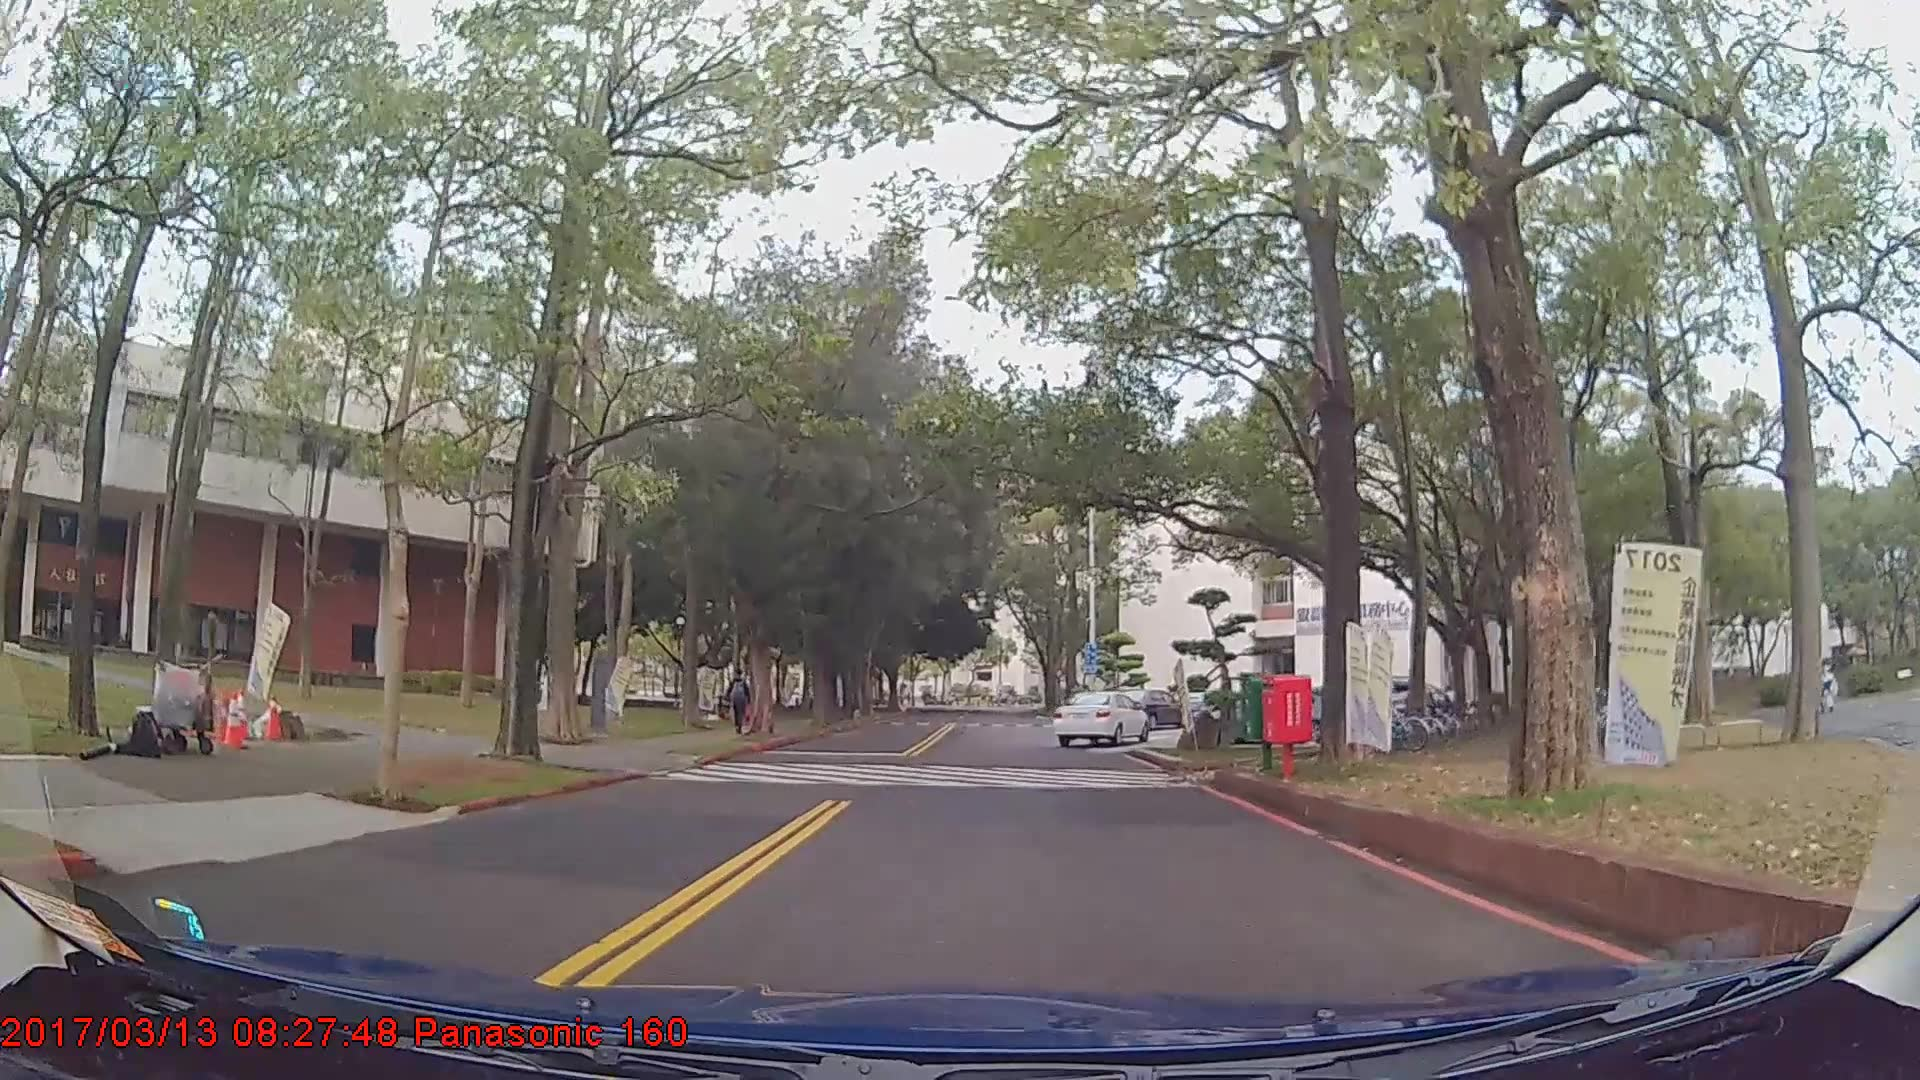pedestrian: (728, 669, 755, 735)
vehicle: (1052, 692, 1149, 749), (1112, 686, 1187, 729)
